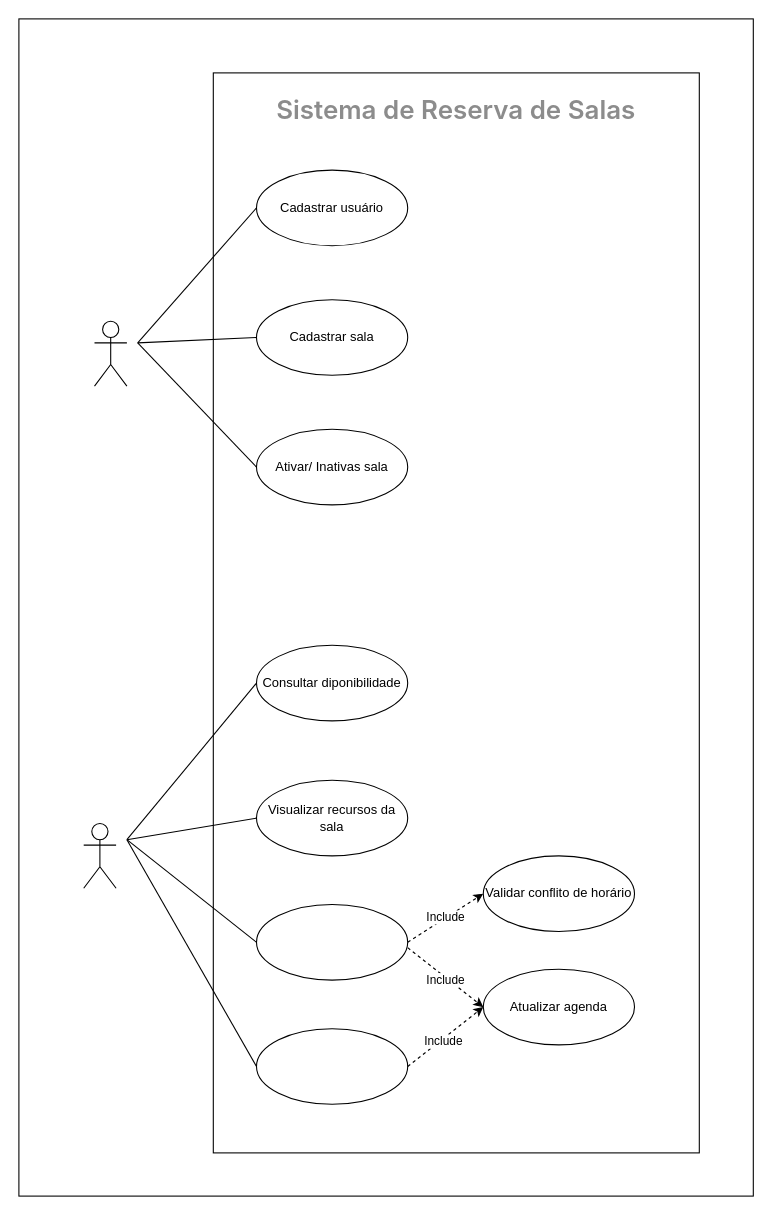
The diagram is 772 pixels wide and 1215 high, and some of its shapes have lost their labels. Here are the shapes that lost their labels. From the top down, the centre of each, then its label:
At (110,353): "Administrador".
At (99,855): "Usuário comum".
At (331,941): "Reservar sala".
At (331,1066): "Cancelar reserva".
